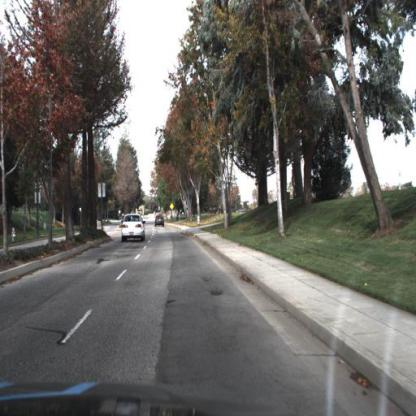car: (121, 213, 146, 244), (156, 215, 166, 229)
